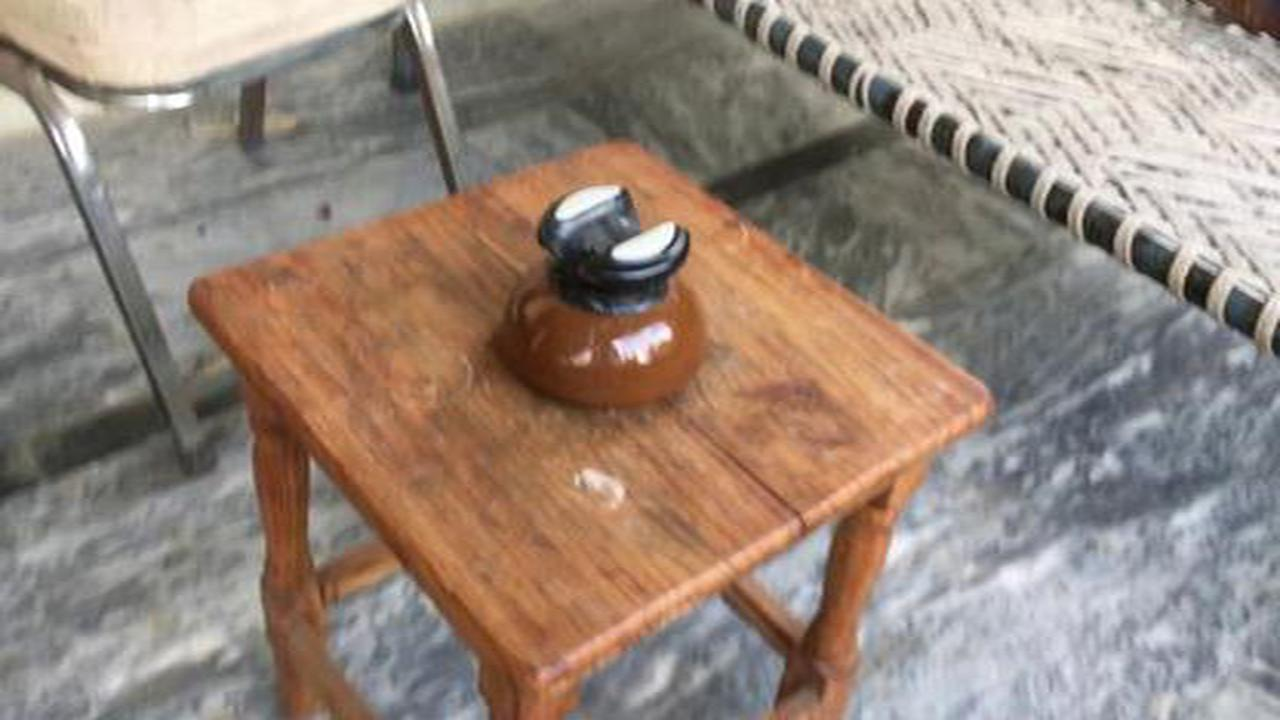insulator_pin: (481, 165, 730, 431)
